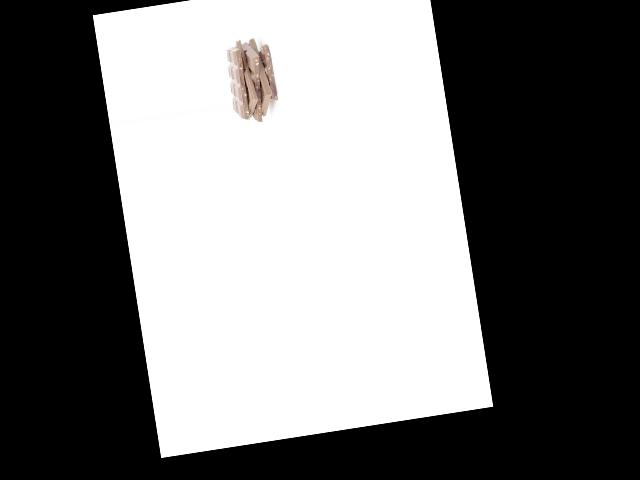chocolate: (242, 36, 284, 117)
